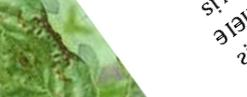Tomato leaf bacterial spot: (0, 32, 120, 97)
